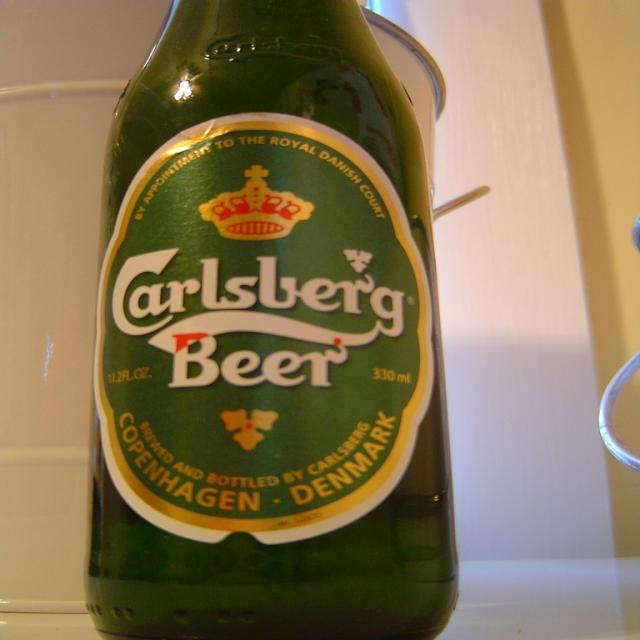carlsberg: (89, 114, 440, 544)
